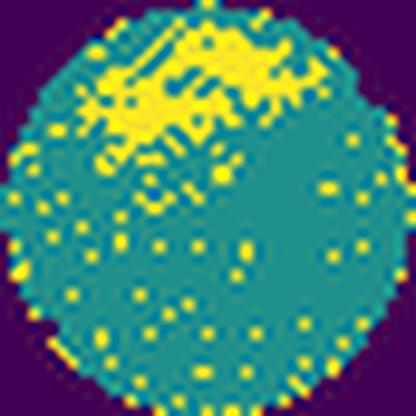Loc: (79, 17, 324, 175)
